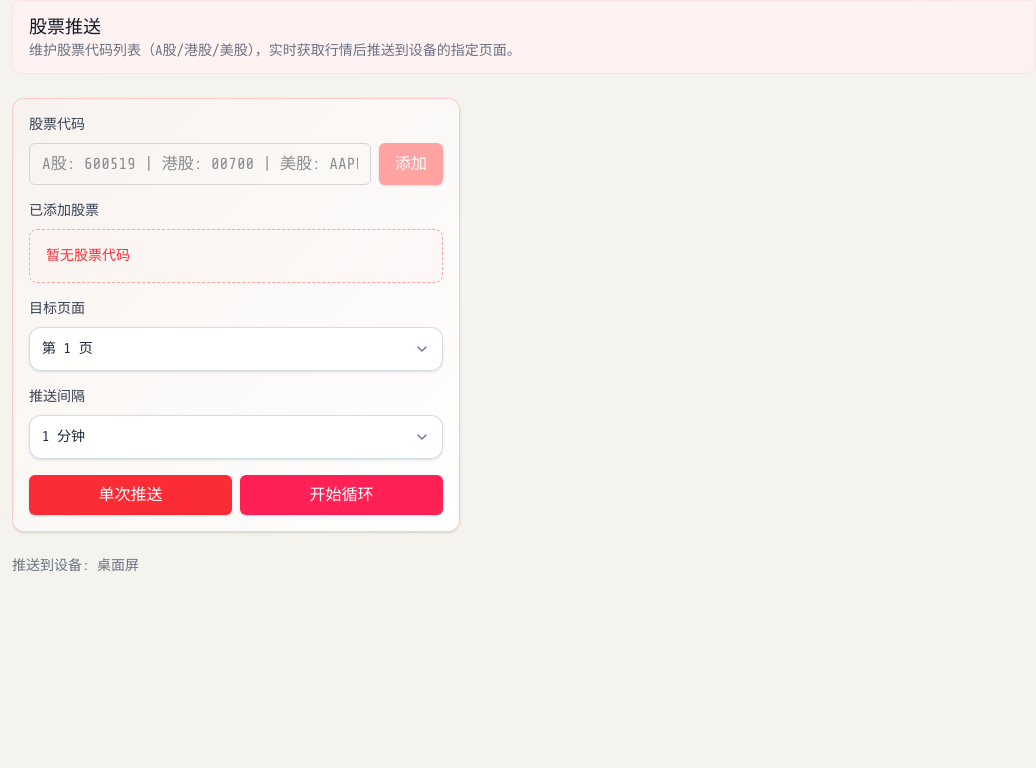
adds a stock when pressing enter in the code input
The width and height of the screenshot is (1036, 768).
In the field labelled "股票代码": (200, 164) x1=29 y1=143 x2=371 y2=185, type "000001"
Then press Enter
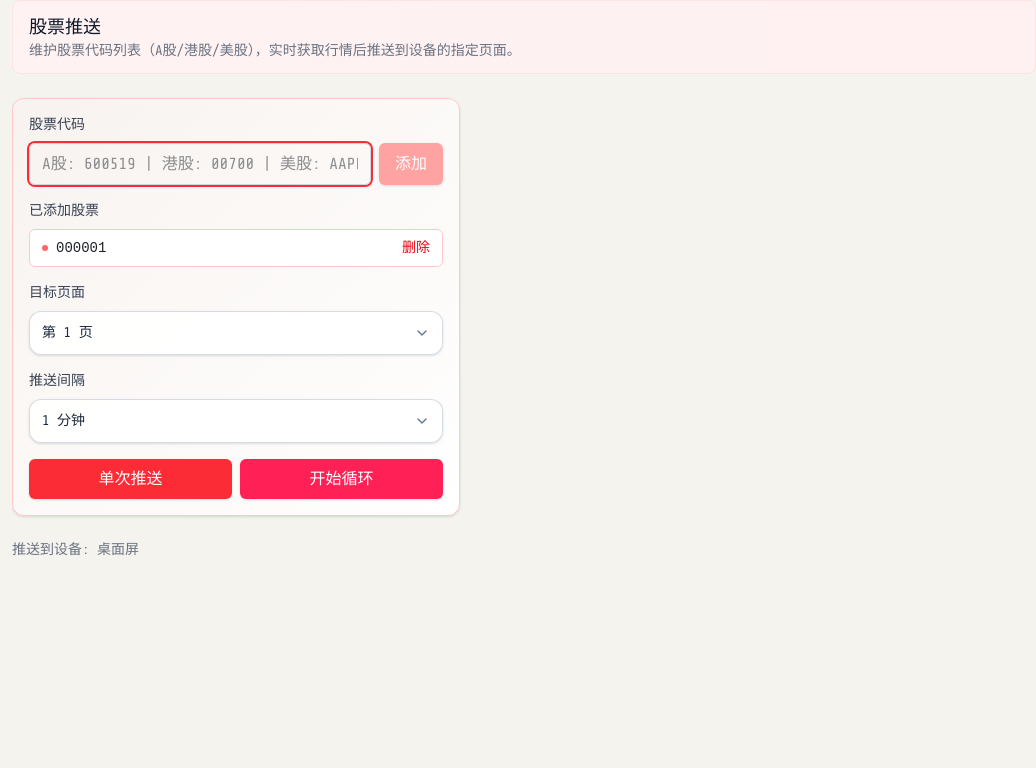
Check: the text "000001" is shown, box x1=56 y1=238 x2=106 y2=258
